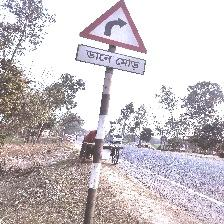Right-turn: (76, 0, 148, 77)
